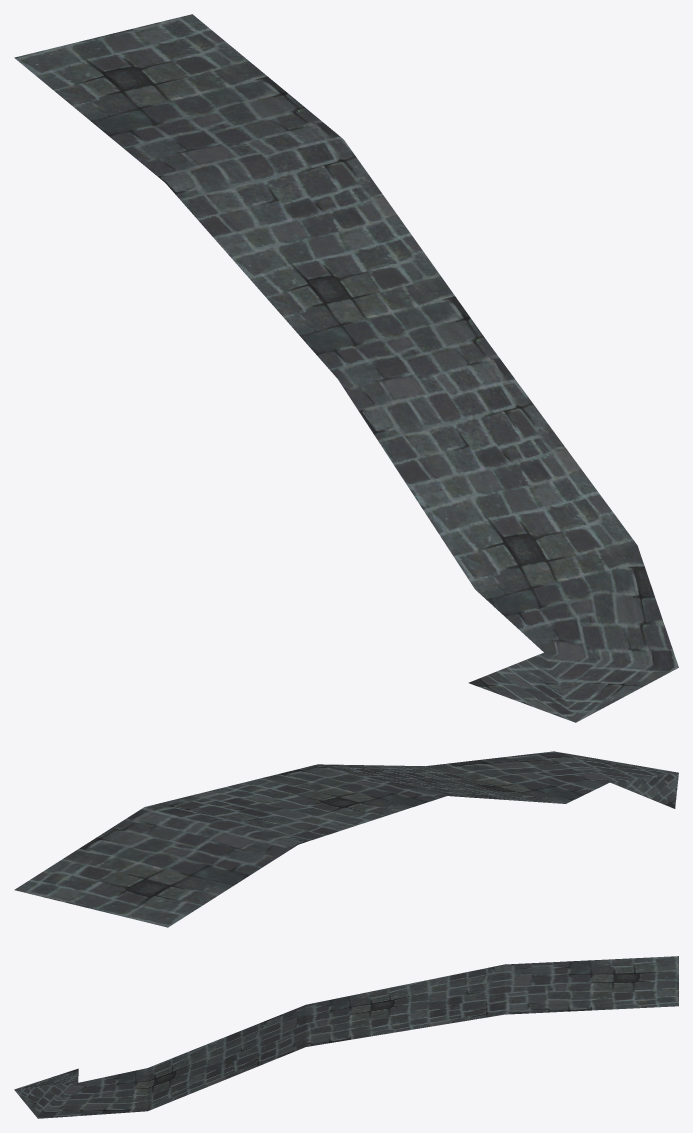
Rendered from blend_brick12.fbx.
The picture shows the model from 3 angles, top to bottom: view 1: azimuth 30°, elevation 25°; view 2: azimuth 150°, elevation 25°; view 3: azimuth 270°, elevation 25°; orthographic projection. The views are drawn at different scales.
Parts seen in each view (by area): view 1: obj0.011; view 2: obj0.011; view 3: obj0.011.
Part boxes in pixels (x1,y1,x2,y2): obj0.011: [14, 14, 678, 722]; obj0.011: [14, 751, 678, 927]; obj0.011: [14, 956, 678, 1118].
Bounding box in the file's own units: 3.68 × 3.43 × 15.
